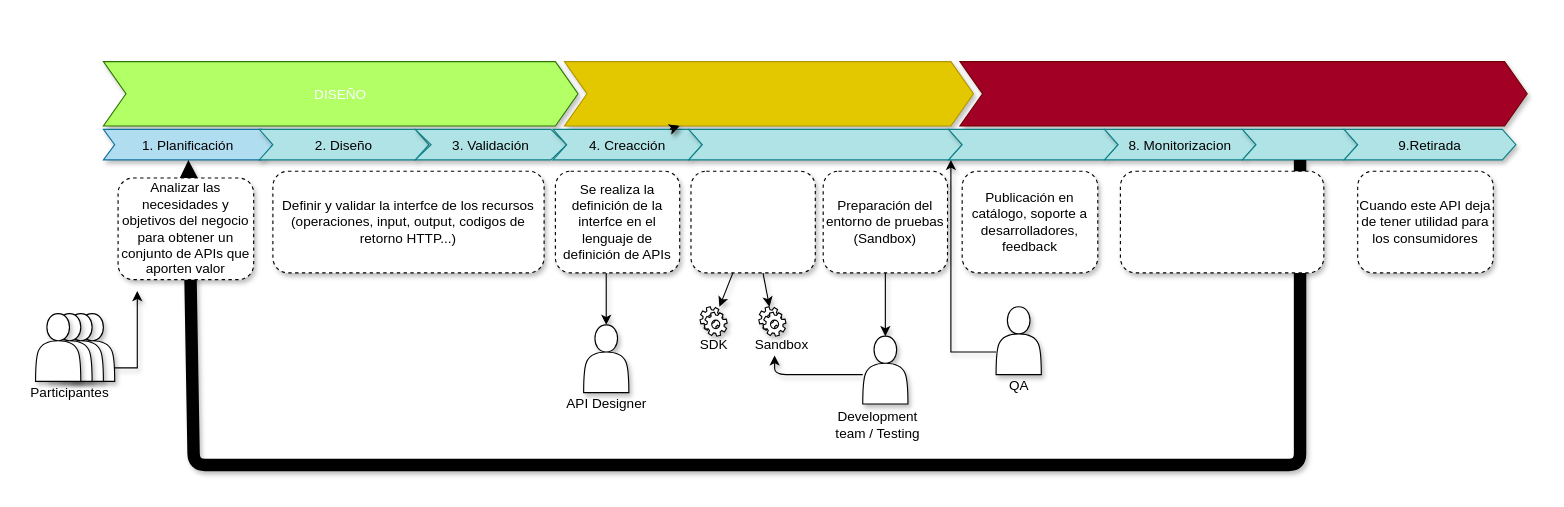
Image size: 1564x507. Some labels were removed from this diagram. Each missing label, with the centre of its shape:
"6. Implementación" goes at [826,146].
"7. Publicación" goes at [1034,146].
"9. Analítica" goes at [1300,146].
"Desarrollo de la lógica de negocio, partiendo de la definición de laAPI" goes at [753,223].
"GESTIÓN" goes at [1244,95].
"IMPLEMENTACIÓN" goes at [769,95].
"Monitorización y analíticas funcional y técnica, KPI" goes at [1223,223].
